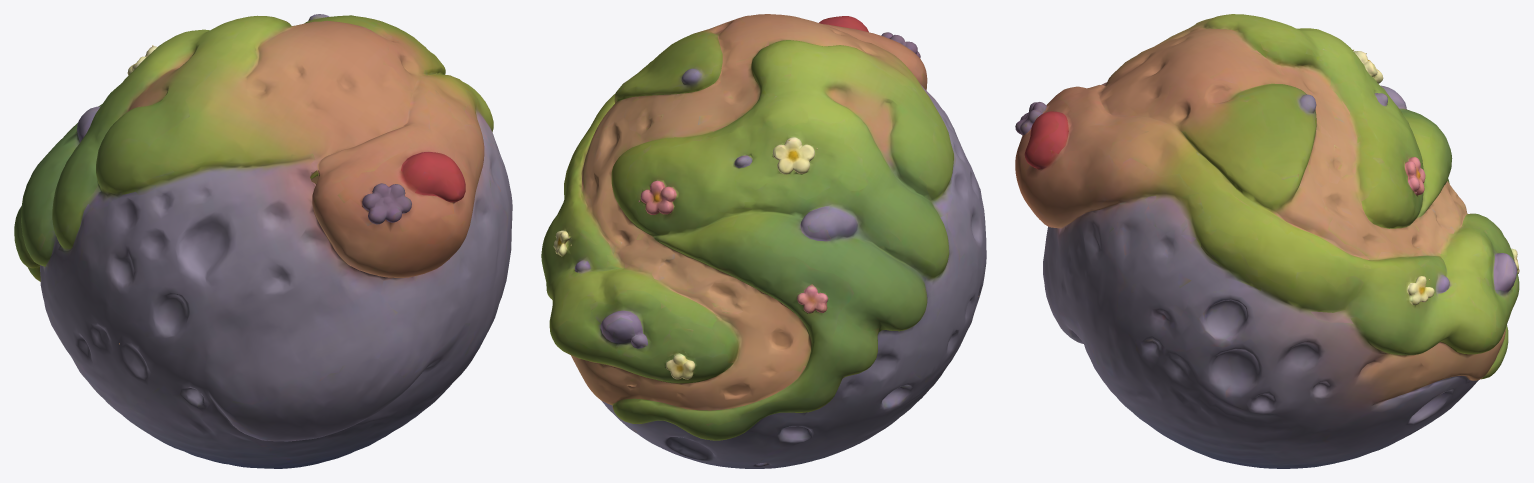
Rendered from planet_meadow.glb.
3 views of the same model, side by side, from view 1: azimuth 30°, elevation 25°; view 2: azimuth 150°, elevation 25°; view 3: azimuth 270°, elevation 25° (orthographic). The views are drawn at different scales.
Parts seen in each view (by area): view 1: geometry_0; view 2: geometry_0; view 3: geometry_0.
Boxes of the visible parts, left/top/right/bottom form: geometry_0: left=14, top=14, right=512, bottom=468; geometry_0: left=541, top=14, right=986, bottom=468; geometry_0: left=1015, top=14, right=1519, bottom=468.
Bounding box in the file's own units: 0.8203 × 0.8394 × 0.9339.
1 material, 1 textured.
